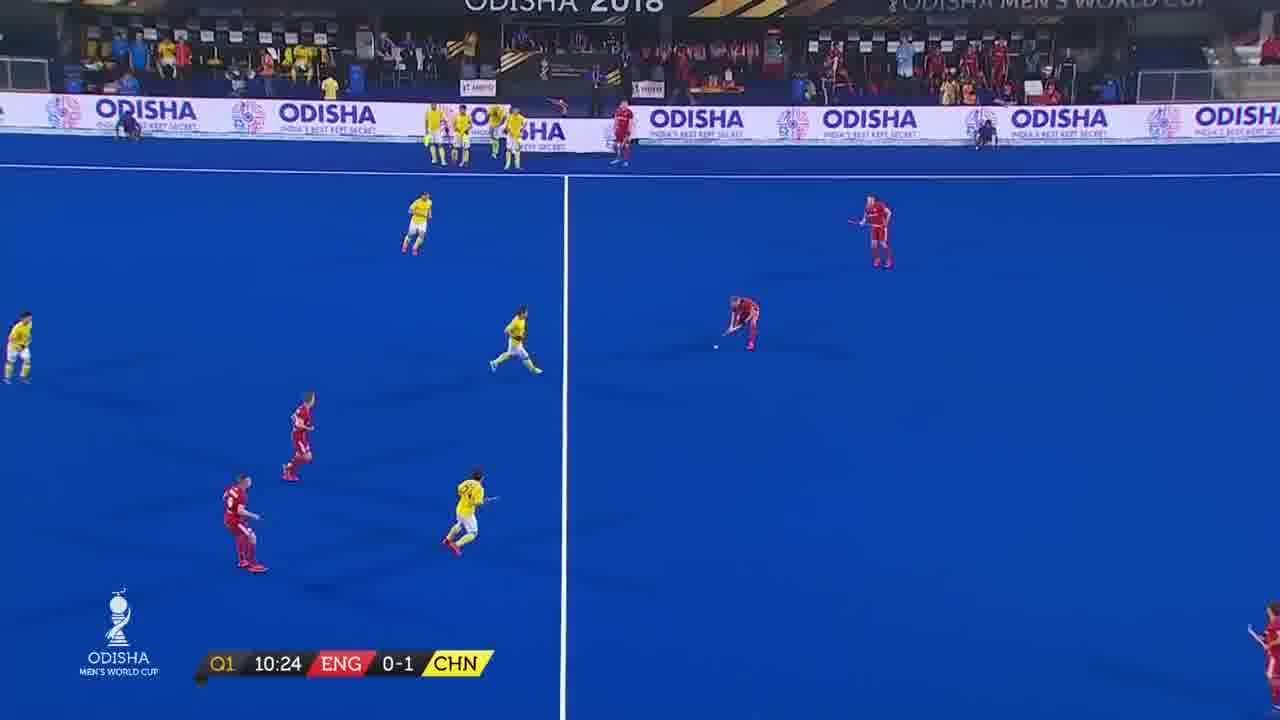ball: (707, 334, 724, 360)
